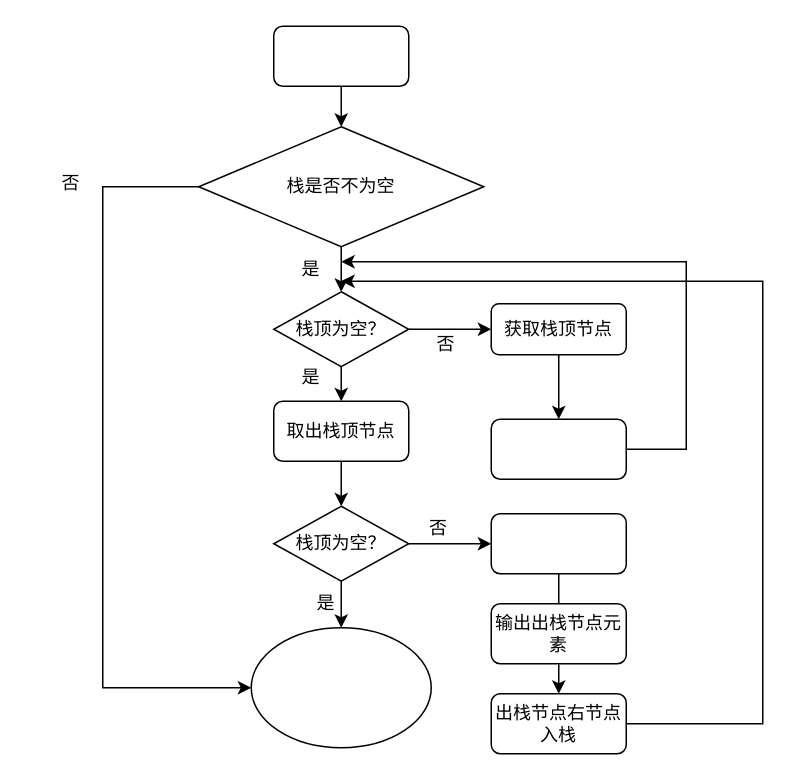
Image size: 801x780. Some labels were removed from this diagram. The centre of each missing label's shape, as x and y in pixels:
"出栈顶节点" belongs at [558,543].
"栈顶左节点入栈" belongs at [558,448].
"结束" belongs at [340,687].
"跟节点入栈" belongs at [340,55].
